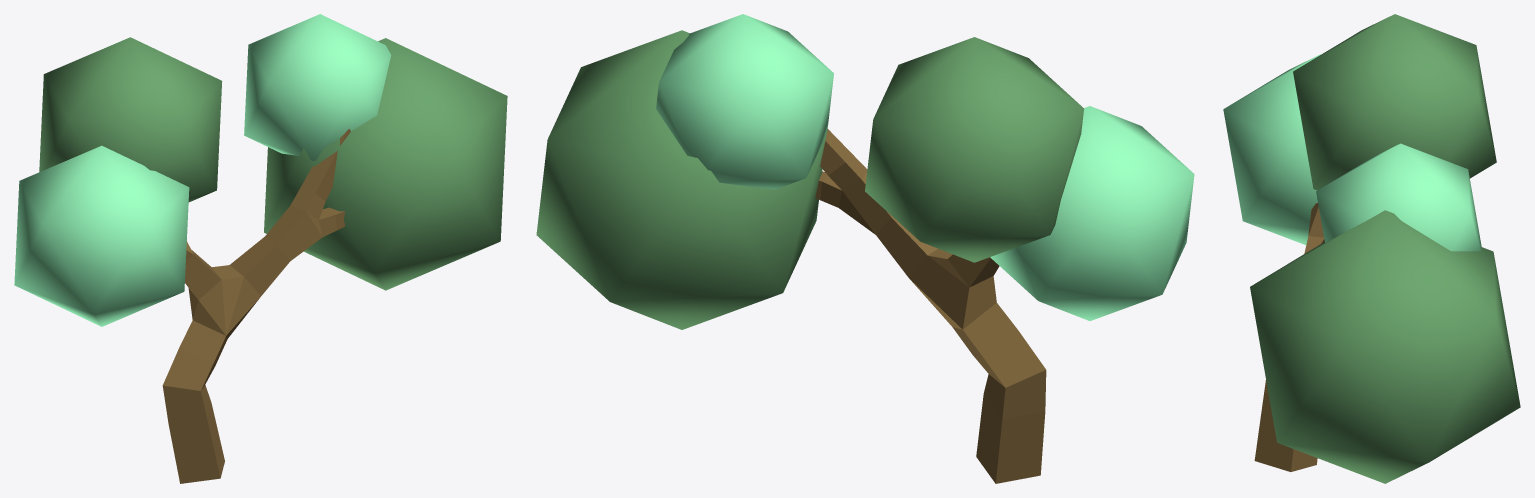
File: TreesGreen.glb
3 views of the same model, side by side, from view 1: azimuth 30°, elevation 25°; view 2: azimuth 150°, elevation 25°; view 3: azimuth 270°, elevation 25° (orthographic). The views are drawn at different scales.
Parts seen in each view (by area): view 1: ทรงกลม Ico.003, ทรงกลม Ico, ทรงกลม Ico.001, Cube.142, ทรงกลม Ico.002; view 2: ทรงกลม Ico.003, ทรงกลม Ico.001, ทรงกลม Ico, ทรงกลม Ico.002, Cube.142; view 3: ทรงกลม Ico.003, ทรงกลม Ico.001, ทรงกลม Ico.002, ทรงกลม Ico, Cube.142.
Boxes of the visible parts, <box> form: ทรงกลม Ico.003: <box>264,38,507,290</box>; ทรงกลม Ico: <box>14,145,189,326</box>; ทรงกลม Ico.001: <box>39,37,222,202</box>; Cube.142: <box>162,129,350,483</box>; ทรงกลม Ico.002: <box>244,14,391,161</box>; ทรงกลม Ico.003: <box>536,30,827,329</box>; ทรงกลม Ico.001: <box>865,37,1083,262</box>; ทรงกลม Ico: <box>990,106,1194,320</box>; ทรงกลม Ico.002: <box>656,14,833,189</box>; Cube.142: <box>815,129,1046,483</box>; ทรงกลม Ico.003: <box>1250,210,1520,483</box>; ทรงกลม Ico.001: <box>1293,14,1496,190</box>; ทรงกลม Ico.002: <box>1316,143,1481,251</box>; ทรงกลม Ico: <box>1223,54,1320,244</box>; Cube.142: <box>1254,203,1324,471</box>.
Bounding box in the file's own units: 2.34 × 1.85 × 1.13.
